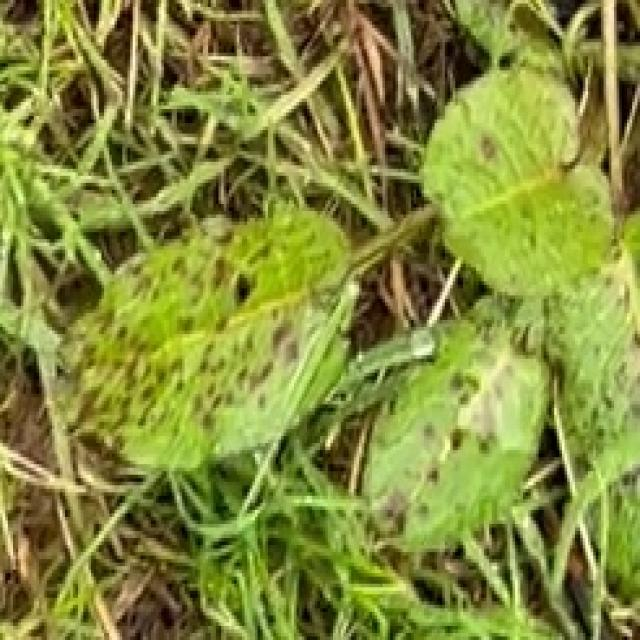organic waste: (75, 0, 640, 566)
